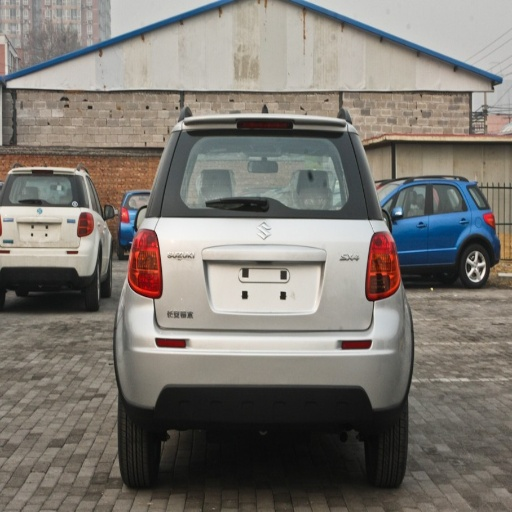back_bumper: (121, 288, 413, 426)
back_glass: (154, 134, 370, 215), (10, 173, 72, 205)
tailgate: (164, 217, 370, 330)
trunk: (145, 220, 256, 334)
